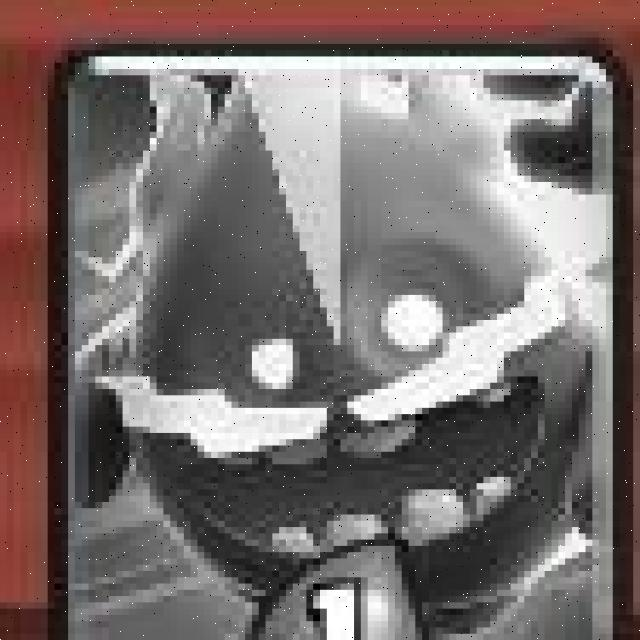Electro_Spirit: (48, 38, 634, 640)
